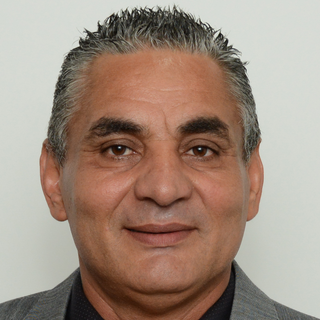eye: (177, 140, 223, 166), (90, 140, 143, 162)
